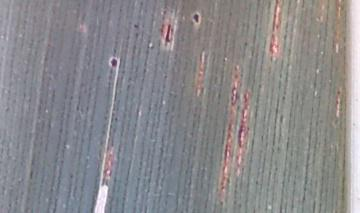tarspot: (105, 52, 122, 73), (188, 7, 204, 28), (130, 20, 141, 32), (335, 85, 344, 98)
